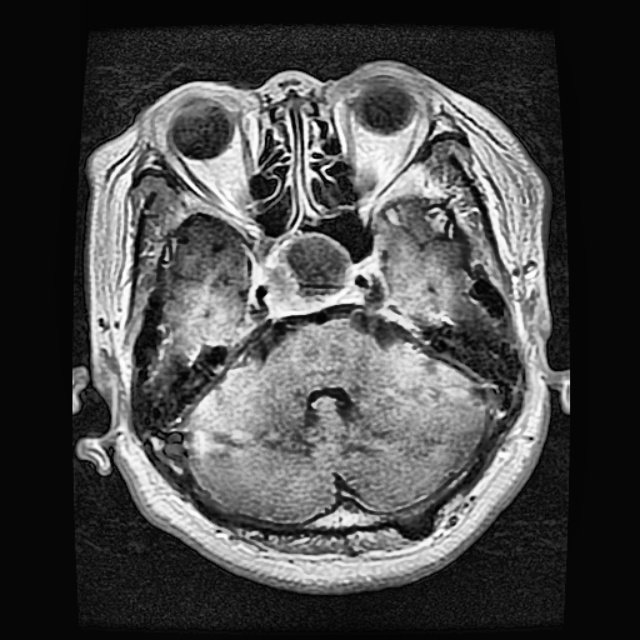Pituitary: (252, 233, 354, 317)
